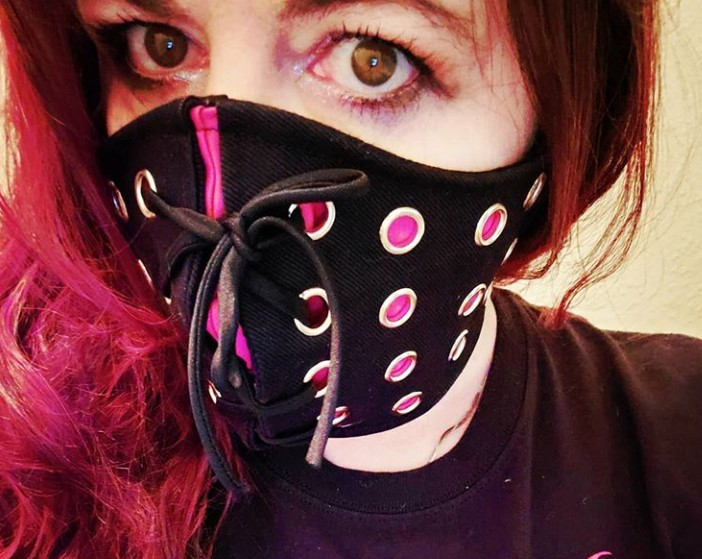face_with_mask: (52, 3, 555, 436)
